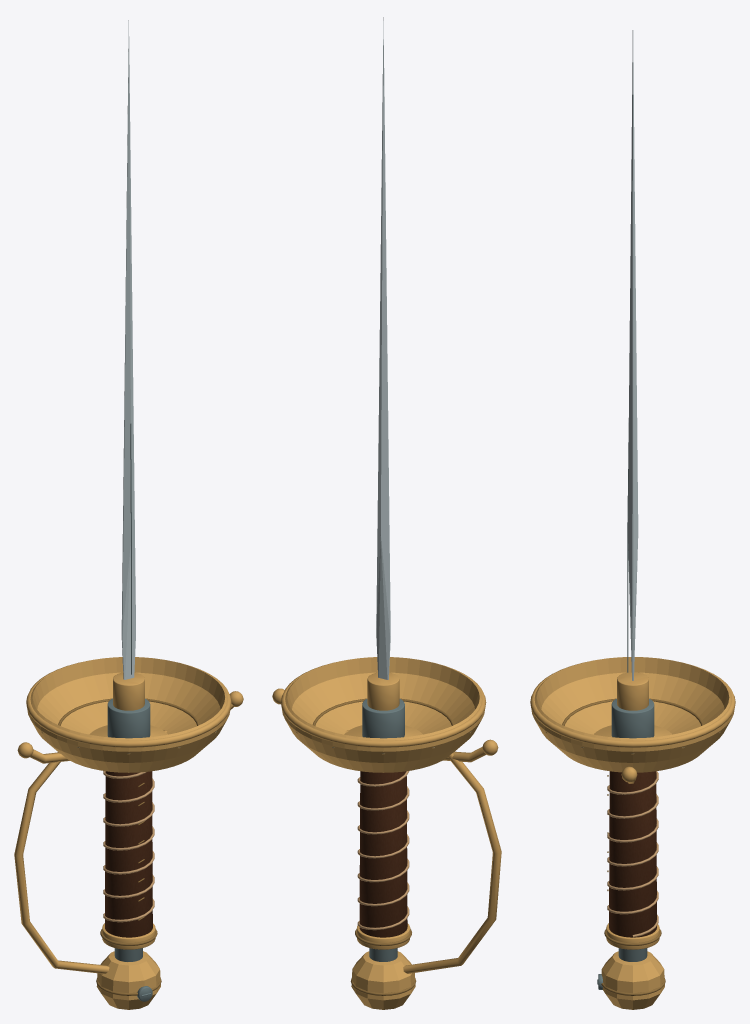
File: sword.glb
3 renders of one model, left to right at view 1: azimuth 30°, elevation 25°; view 2: azimuth 150°, elevation 25°; view 3: azimuth 270°, elevation 25°, orthographic.
Parts seen in each view (by area): view 1: Render_sword; view 2: Render_sword; view 3: Render_sword.
Part boxes in pixels (x1,y1,x2,y2): Render_sword: (14,20,243,1009); Render_sword: (272,17,501,1009); Render_sword: (530,30,735,1009).
Size of the model in its own units: 0.2944 by 1.23 by 0.2304.
Materials: 6 (6 with a texture image).
